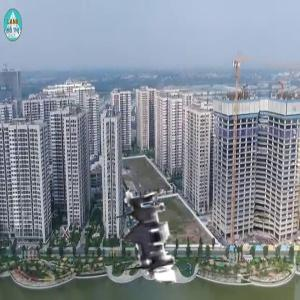drone: (89, 171, 214, 296)
